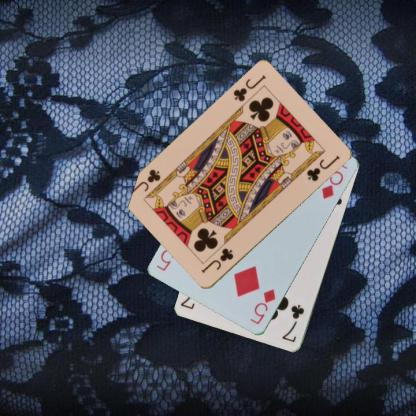5d: (248, 286, 278, 326)
7c: (279, 302, 306, 344)
Jc: (230, 72, 268, 104), (198, 245, 235, 274)
